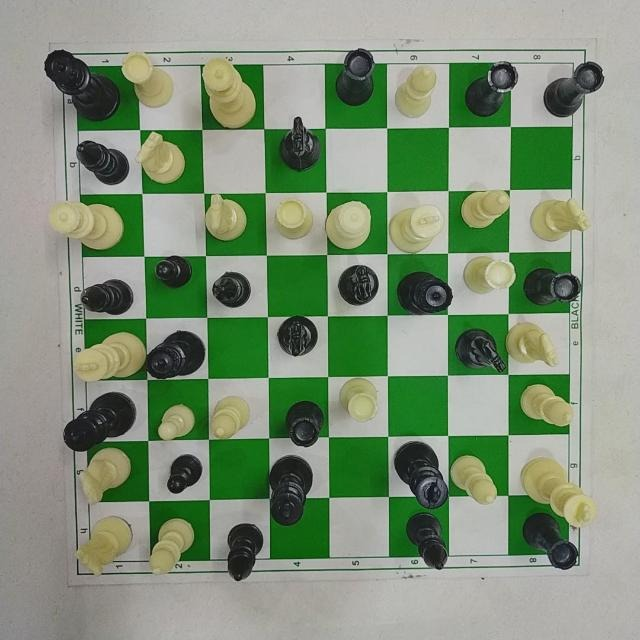black-bishop: (72, 138, 129, 186), (405, 514, 450, 570), (224, 525, 264, 581), (82, 278, 134, 316), (211, 271, 250, 308)
black-king: (61, 390, 136, 451), (393, 440, 448, 510), (267, 453, 313, 525)
black-knight: (278, 116, 320, 172), (456, 327, 506, 373), (338, 261, 381, 306), (276, 317, 322, 357)
black-pawn: (167, 454, 207, 492), (154, 256, 194, 288)
black-queen: (43, 47, 120, 122), (144, 328, 208, 377), (397, 272, 455, 314)
black-rook: (543, 60, 604, 118), (465, 61, 519, 117), (524, 513, 578, 569), (335, 48, 379, 106), (522, 267, 583, 306), (285, 401, 324, 445)
white-bishop: (146, 516, 195, 579), (393, 62, 440, 120), (520, 383, 576, 430), (451, 455, 499, 504), (460, 188, 512, 229), (208, 395, 251, 441)
white-king: (520, 456, 597, 527), (71, 330, 147, 382), (389, 205, 444, 255)
white-knight: (78, 514, 132, 575), (81, 448, 130, 503), (531, 197, 585, 246), (134, 132, 184, 184), (506, 321, 559, 367), (206, 194, 246, 242)
white-pawn: (156, 403, 202, 439)
white-queen: (201, 55, 259, 129), (47, 199, 125, 250), (325, 197, 374, 250)
white-rook: (118, 49, 173, 108), (462, 254, 515, 292), (337, 378, 380, 422), (275, 195, 313, 238)
